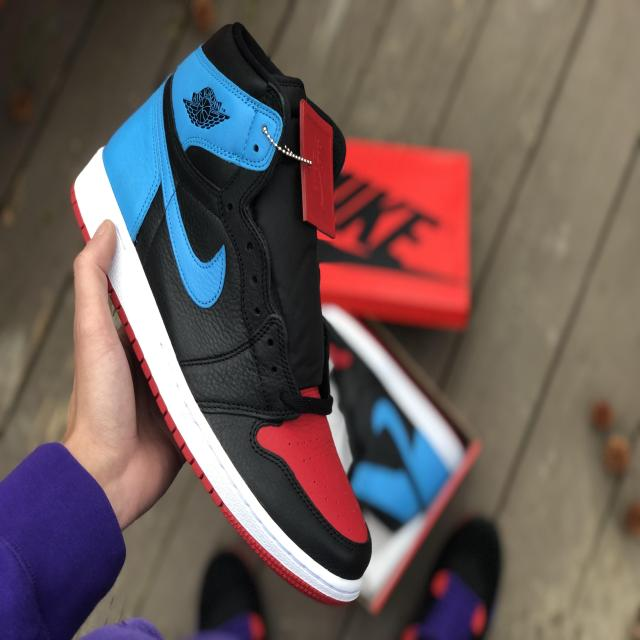shoe: (66, 18, 373, 608)
